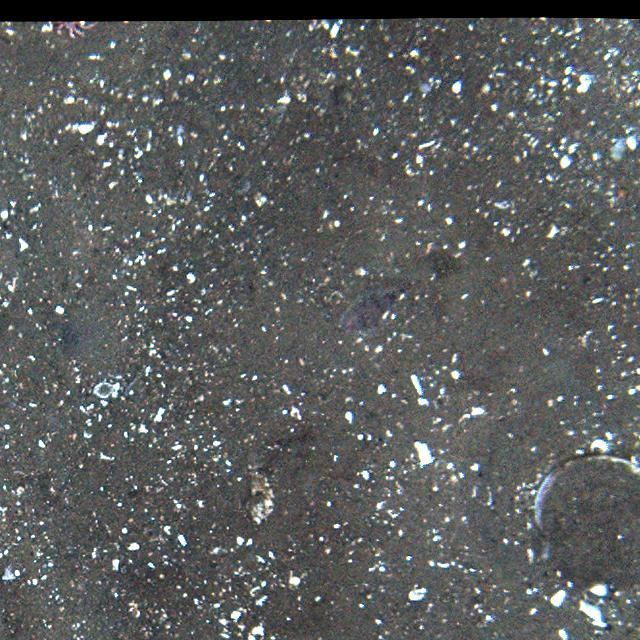flatfish: (322, 278, 410, 346)
